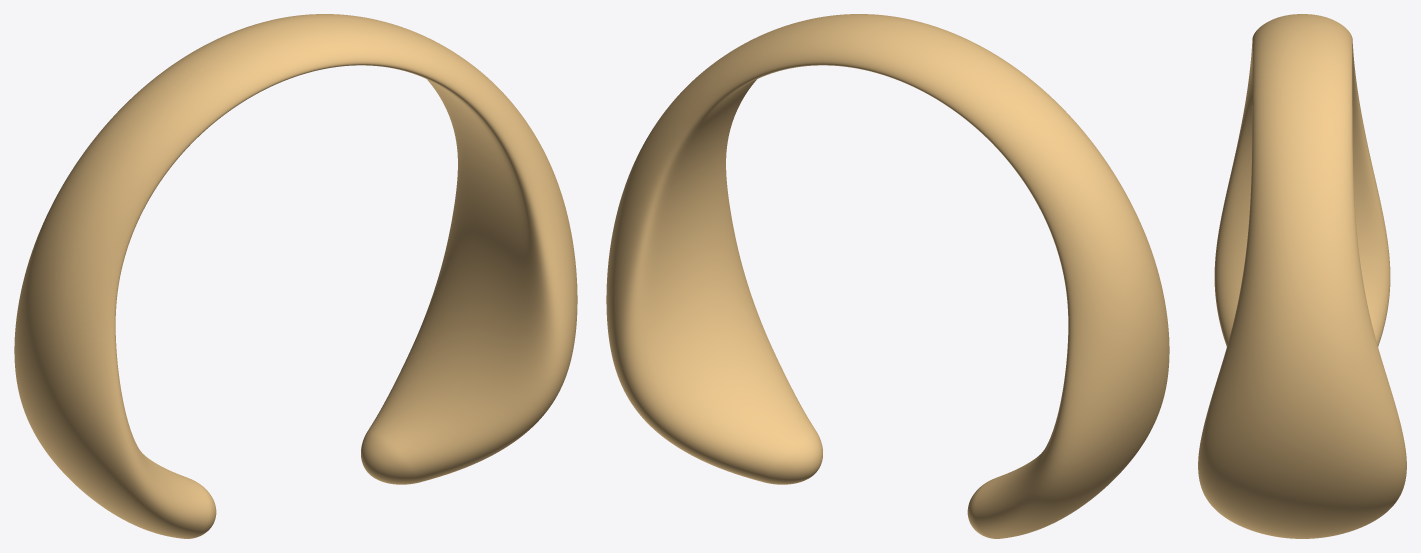
File: ring.glb
3 views of the same model, side by side, from view 1: azimuth 30°, elevation 25°; view 2: azimuth 150°, elevation 25°; view 3: azimuth 270°, elevation 25° (orthographic). The views are drawn at different scales.
Parts seen in each view (by area): view 1: open_dome_ring; view 2: open_dome_ring; view 3: open_dome_ring.
Boxes of the visible parts, x1=… form: open_dome_ring: x1=14, y1=14, x2=577, y2=538; open_dome_ring: x1=606, y1=14, x2=1169, y2=538; open_dome_ring: x1=1198, y1=14, x2=1406, y2=538.
Bounding box in the file's own units: 21.97 × 19.06 × 8.15.
